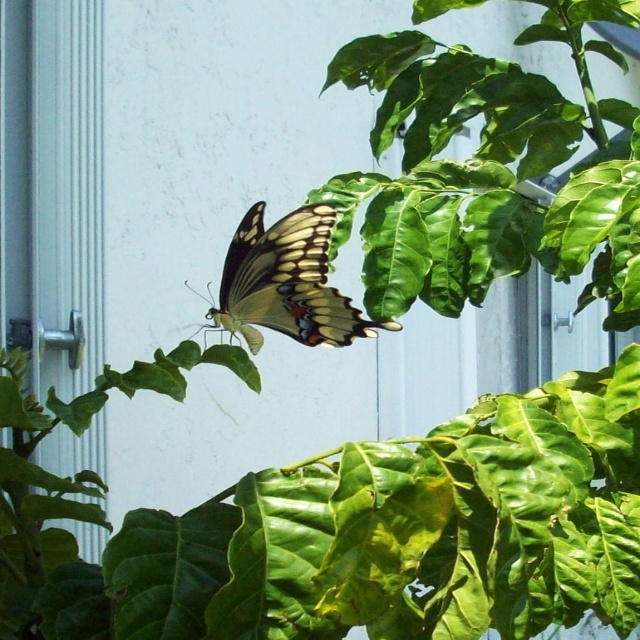Butterfly: (200, 174, 403, 355)
